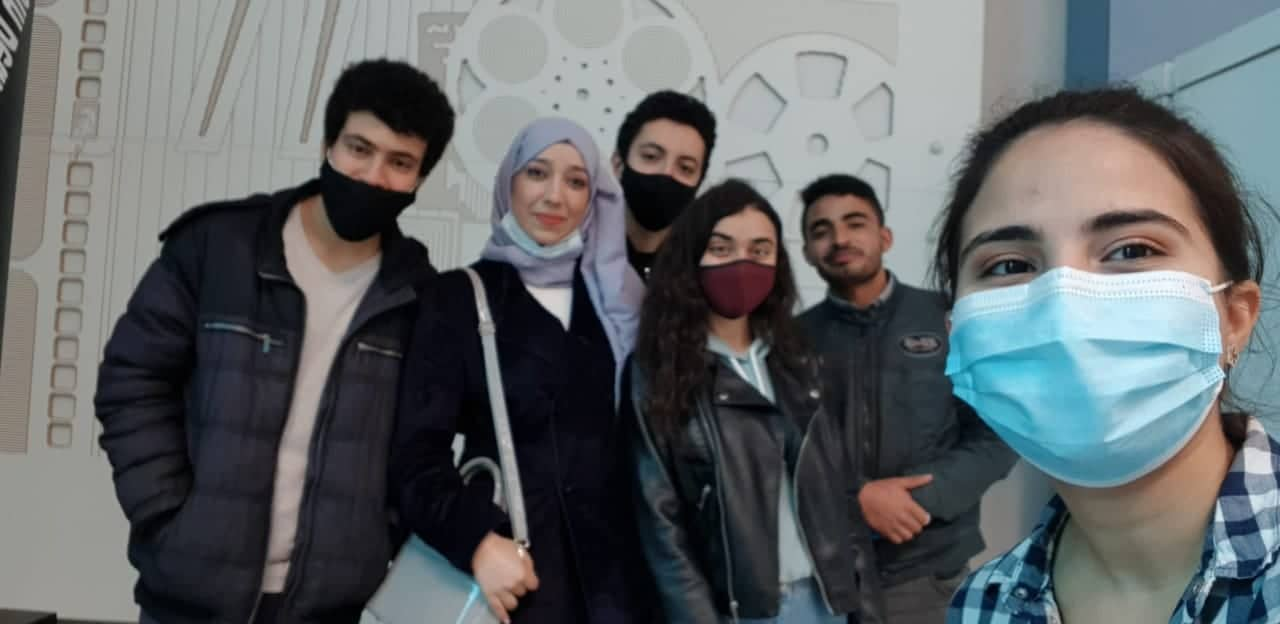mask_weared_incorrect: (331, 127, 421, 226), (516, 161, 588, 254)
without_mask: (805, 207, 878, 283)
